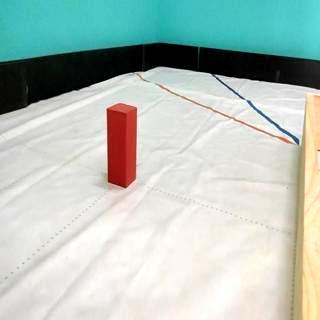redbox: (106, 102, 138, 189)
